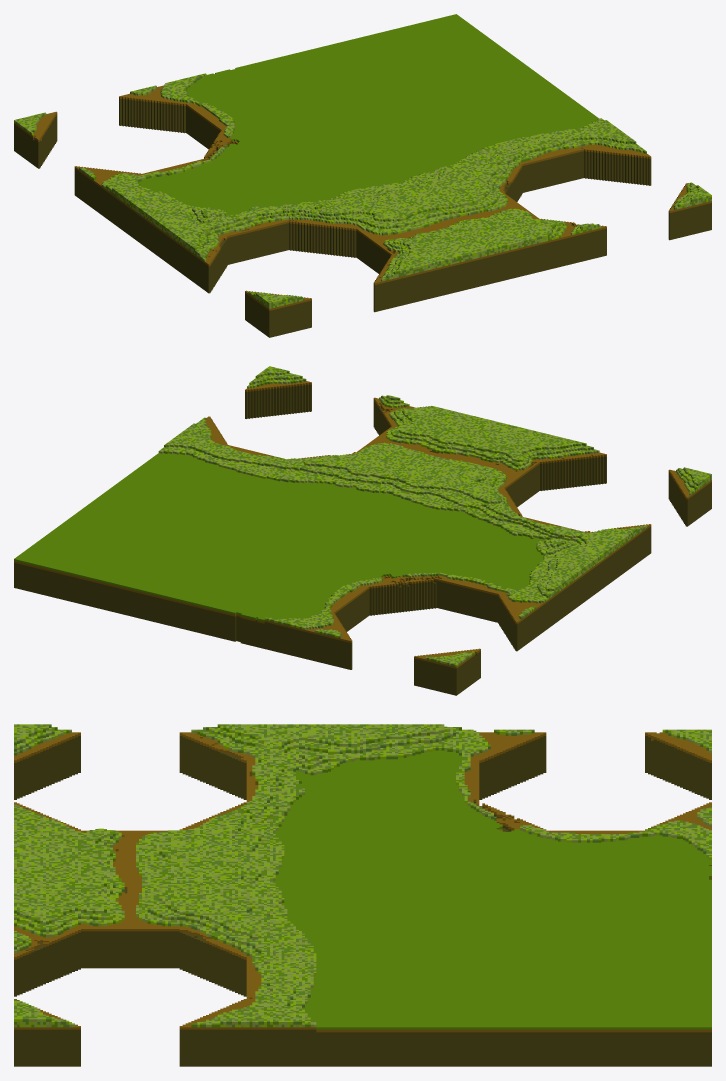
File: Tab D2-0.obj
3 views of the same model, one above another, from view 1: azimuth 30°, elevation 25°; view 2: azimuth 150°, elevation 25°; view 3: azimuth 270°, elevation 25° (orthographic). The views are drawn at different scales.
Size of the model in its own units: 24 by 1.8 by 24.
Materials: 1 (1 with a texture image).
